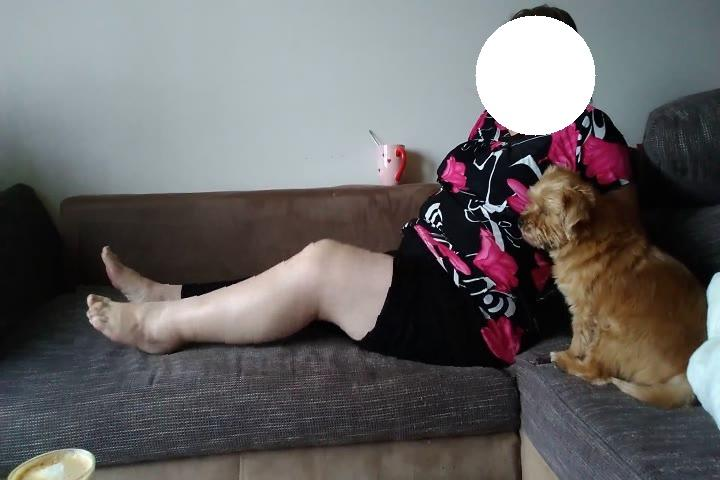lower_body: (76, 226, 520, 375)
